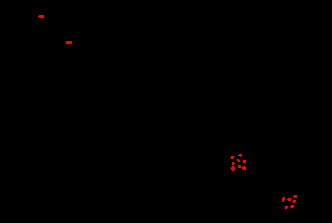Target: (231, 166, 235, 171), (38, 15, 44, 18), (66, 41, 72, 44), (242, 166, 246, 170), (282, 197, 285, 202), (238, 154, 242, 157), (293, 195, 297, 198), (287, 198, 291, 201), (290, 205, 294, 208), (231, 156, 234, 159), (237, 159, 240, 162), (243, 160, 246, 163), (232, 162, 235, 165), (238, 165, 241, 168), (293, 200, 296, 203), (285, 206, 288, 209)
